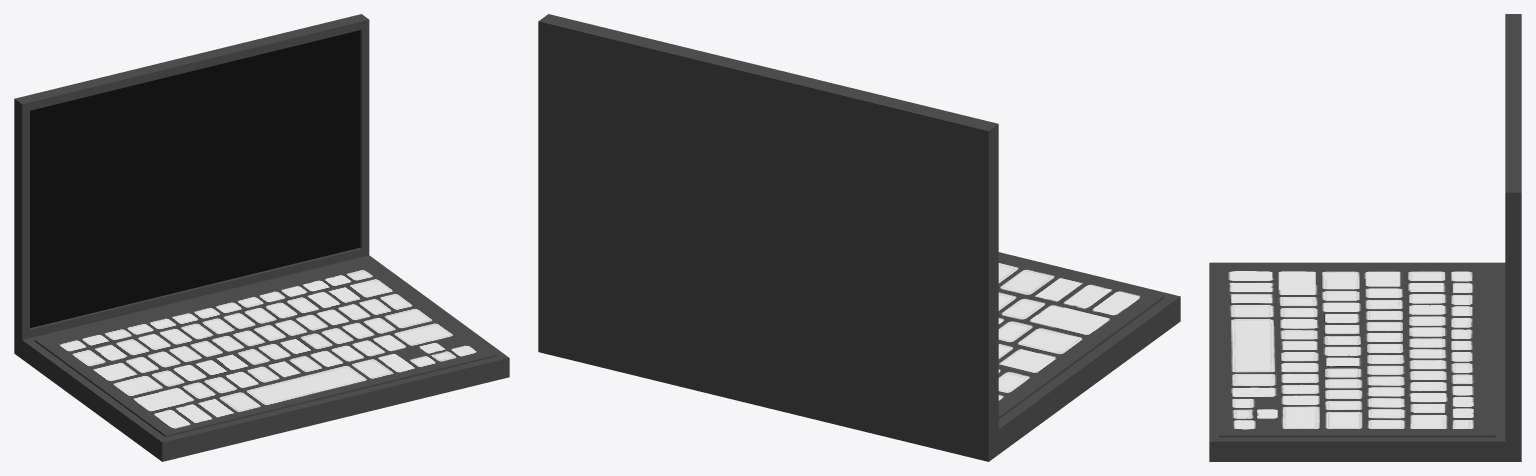
File: SM_Laptop.FBX
The picture shows the model from 3 angles, left to right: view 1: azimuth 30°, elevation 25°; view 2: azimuth 150°, elevation 25°; view 3: azimuth 270°, elevation 25°; orthographic projection. The views are drawn at different scales.
Parts seen in each view (by area): view 1: laptop001; view 2: laptop001; view 3: laptop001.
Boxes of the visible parts, <box> form: laptop001: <box>14,14,509,461</box>; laptop001: <box>538,14,1180,461</box>; laptop001: <box>1209,14,1521,461</box>.
Size of the model in its own units: 18.54 by 13.01 by 13.68.
